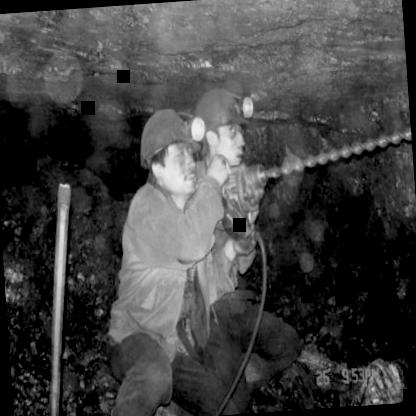helmet: (136, 100, 200, 200), (193, 83, 250, 166)
